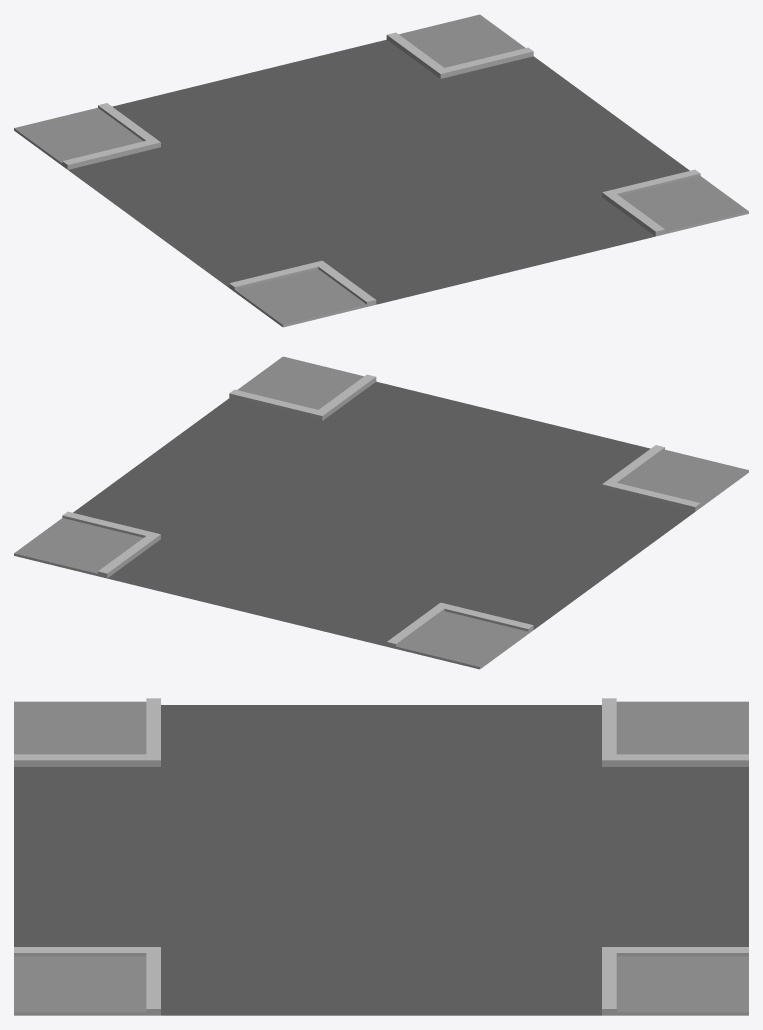
Rendered from street_3cross4.fbx.
The picture shows the model from 3 angles, top to bottom: view 1: azimuth 30°, elevation 25°; view 2: azimuth 150°, elevation 25°; view 3: azimuth 270°, elevation 25°; orthographic projection. The views are drawn at different scales.
Visible parts, largest first — view 1: street_3cross4; view 2: street_3cross4; view 3: street_3cross4.
Part boxes in pixels (x1,y1,x2,y2): street_3cross4: [14, 14, 748, 327]; street_3cross4: [14, 356, 748, 669]; street_3cross4: [14, 698, 748, 1015].
Size of the model in its own units: 20 by 0.2 by 20.
